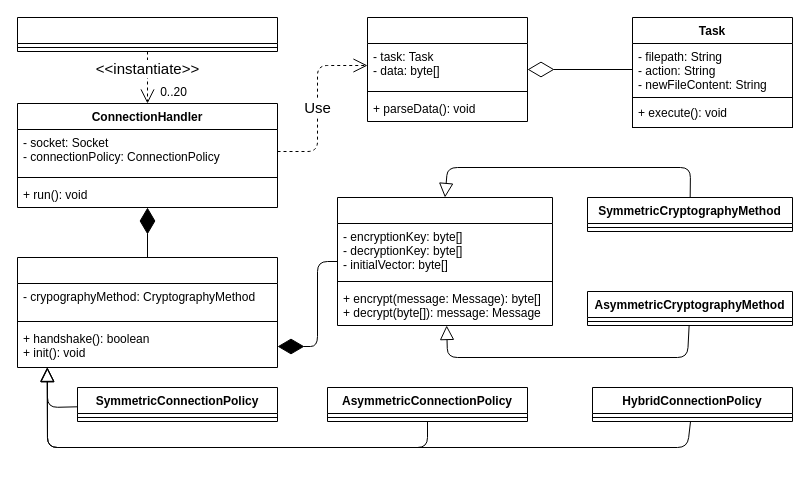
Some shapes in this 810 by 479 pixel diagram are drawn without their labels. The shapes that lost their labels are listed below. From the top down, each one's box as (x1, y1, x2, y2) in pixels, then its label:
(16, 16, 278, 52): Server
(366, 16, 528, 122): Message
(336, 196, 552, 326): CryptographyMethod
(16, 256, 278, 368): ConnectionPolicy
